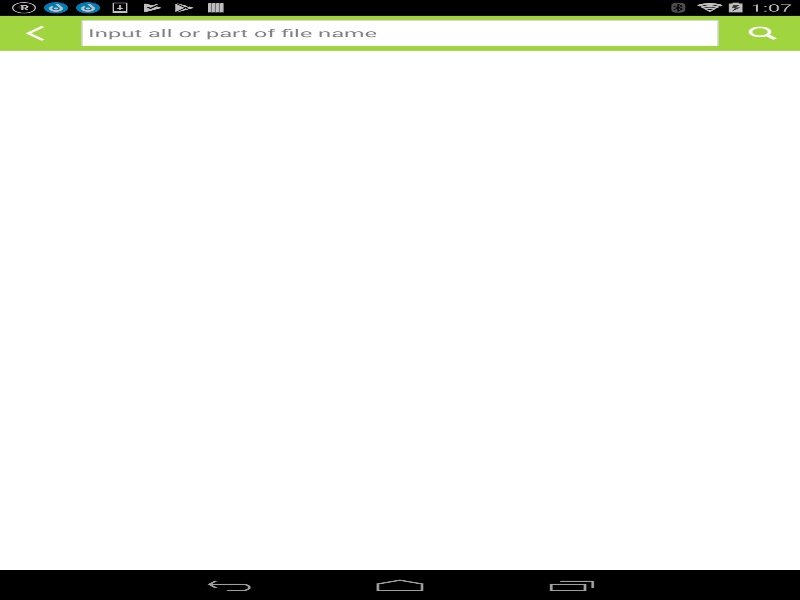Button: (725, 15, 800, 50), (0, 15, 74, 50)
Input: (81, 20, 718, 46)
